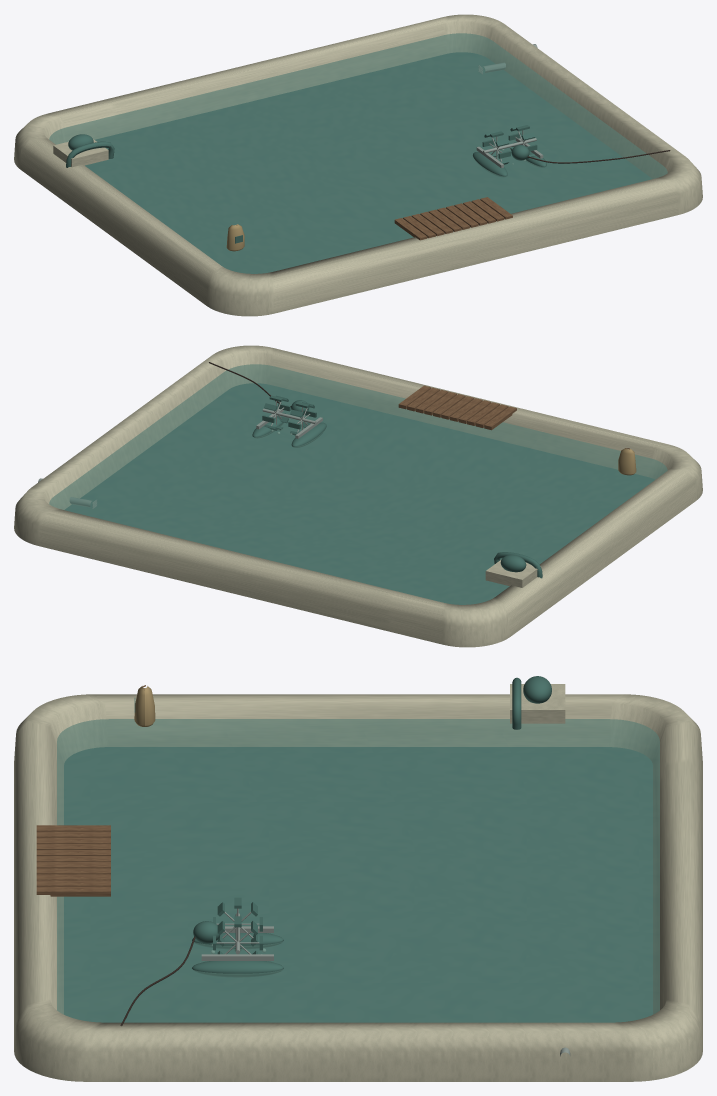
File: pond.glb
3 renders of one model, top to bottom at view 1: azimuth 30°, elevation 25°; view 2: azimuth 150°, elevation 25°; view 3: azimuth 270°, elevation 25°, orthographic. The views are drawn at different scales.
Visible parts, largest first — view 1: water_surface, pond_lined_floor, rounded_hand_trowelled_pond_wall, service_platform_warm_weathered_hardwood, aerator_farm_green_enamel, service_motor_plinth, aerator_rotor_farm_green_enamel, equipment_farm_green_enamel; view 2: water_surface, pond_lined_floor, rounded_hand_trowelled_pond_wall, service_platform_warm_weathered_hardwood, service_motor_plinth, aerator_rotor_farm_green_enamel, aerator_farm_green_enamel, equipment_farm_green_enamel; view 3: water_surface, pond_lined_floor, rounded_hand_trowelled_pond_wall, service_platform_warm_weathered_hardwood, aerator_farm_green_enamel, service_motor_plinth, equipment_farm_green_enamel, aerator_rotor_farm_green_enamel, aerator_brushed_galvanized_steel, woven_sack.
Boxes of the visible parts, bbox=[...] form: water_surface: bbox=[49, 33, 667, 273]; pond_lined_floor: bbox=[85, 52, 651, 273]; rounded_hand_trowelled_pond_wall: bbox=[14, 14, 702, 316]; service_platform_warm_weathered_hardwood: bbox=[394, 197, 512, 240]; aerator_farm_green_enamel: bbox=[472, 142, 546, 176]; service_motor_plinth: bbox=[53, 139, 108, 167]; aerator_rotor_farm_green_enamel: bbox=[482, 125, 537, 164]; equipment_farm_green_enamel: bbox=[66, 134, 114, 167]; water_surface: bbox=[49, 364, 667, 604]; pond_lined_floor: bbox=[65, 383, 654, 604]; rounded_hand_trowelled_pond_wall: bbox=[14, 345, 702, 647]; service_platform_warm_weathered_hardwood: bbox=[398, 385, 516, 430]; service_motor_plinth: bbox=[485, 559, 541, 587]; aerator_rotor_farm_green_enamel: bbox=[262, 395, 316, 435]; aerator_farm_green_enamel: bbox=[252, 400, 326, 447]; equipment_farm_green_enamel: bbox=[494, 552, 542, 578]; water_surface: bbox=[57, 719, 659, 1022]; pond_lined_floor: bbox=[64, 747, 652, 1022]; rounded_hand_trowelled_pond_wall: bbox=[14, 694, 702, 1081]; service_platform_warm_weathered_hardwood: bbox=[36, 825, 110, 896]; aerator_farm_green_enamel: bbox=[192, 921, 283, 977]; service_motor_plinth: bbox=[510, 684, 565, 723]; equipment_farm_green_enamel: bbox=[512, 676, 551, 729]; aerator_rotor_farm_green_enamel: bbox=[213, 897, 262, 954]; aerator_brushed_galvanized_steel: bbox=[201, 913, 273, 960]; woven_sack: bbox=[134, 686, 155, 726].
Bounding box in the file's own units: 12.08 × 1.29 × 10.
9 materials, 3 textured.
